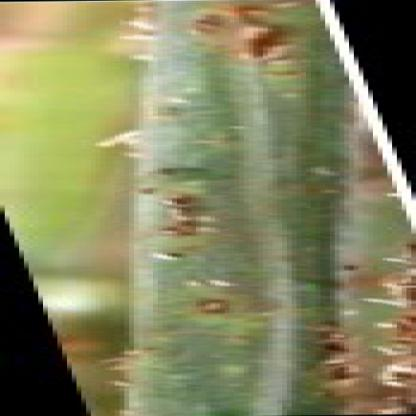wheat Stem Rust: (286, 249, 415, 415), (169, 7, 327, 56), (153, 192, 254, 242), (180, 294, 270, 319)
